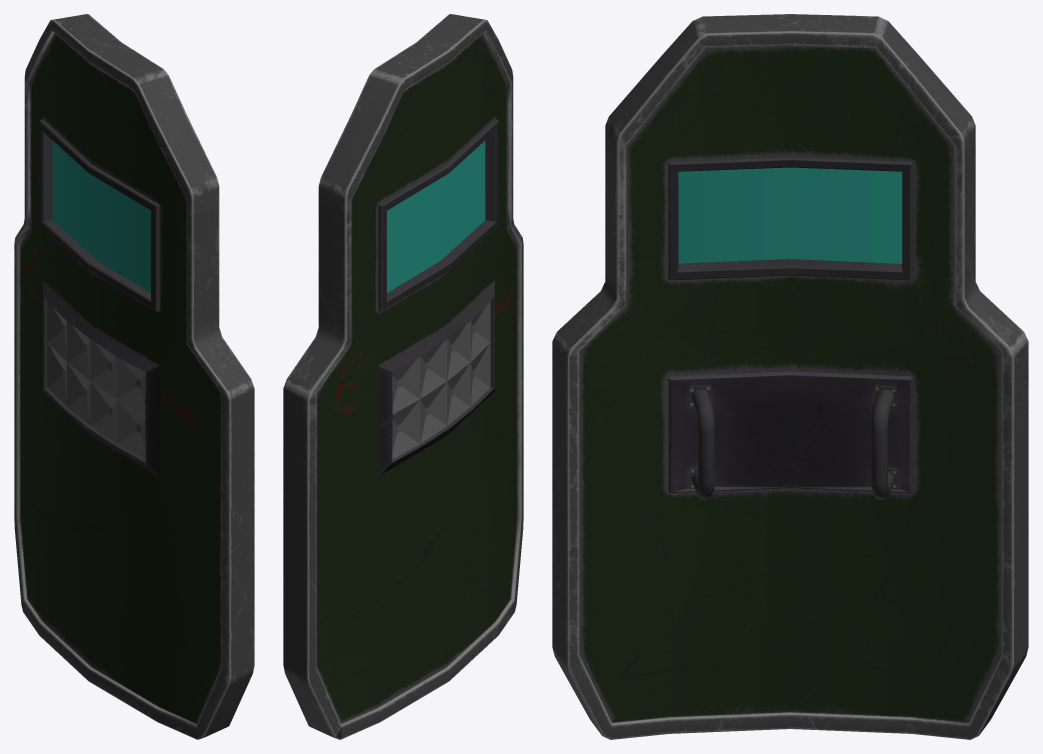
File: Shield3.fbx
3 views of the same model, side by side, from view 1: azimuth 30°, elevation 25°; view 2: azimuth 150°, elevation 25°; view 3: azimuth 270°, elevation 25° (orthographic). The views are drawn at different scales.
Visible parts, largest first — view 1: pCube36; view 2: pCube36; view 3: pCube36.
Boxes of the visible parts, x1=… form: pCube36: x1=14, y1=14, x2=254, y2=739; pCube36: x1=283, y1=14, x2=523, y2=739; pCube36: x1=552, y1=14, x2=1028, y2=739.
Bounding box in the file's own units: 3.94 × 28.58 × 17.67.
2 materials, 1 textured.
